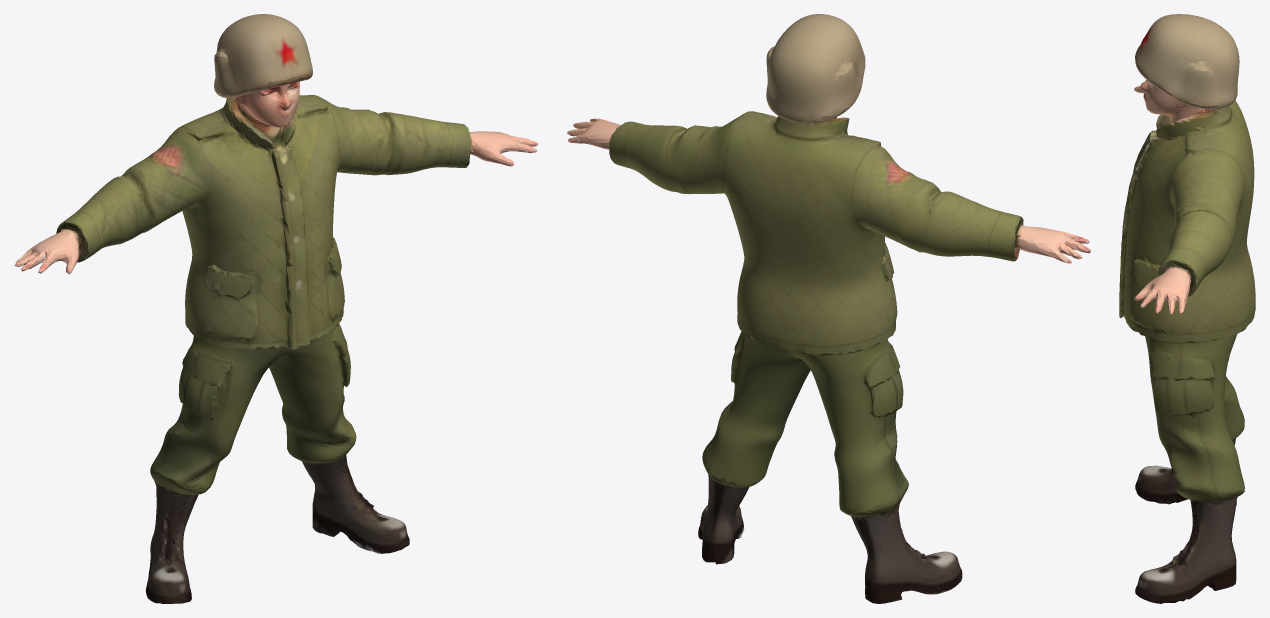
Rendered from vasiliy_tpose.glb.
3 views of the same model, side by side, from view 1: azimuth 30°, elevation 25°; view 2: azimuth 150°, elevation 25°; view 3: azimuth 270°, elevation 25° (orthographic). The views are drawn at different scales.
Parts seen in each view (by area): view 1: model; view 2: model; view 3: model.
Boxes of the visible parts, left/top/right/bottom form: model: left=14, top=14, right=538, bottom=603; model: left=567, top=14, right=1090, bottom=603; model: left=1119, top=14, right=1255, bottom=603.
Bounding box in the file's own units: 1.89 × 1.9 × 0.4465.
1 material, 1 textured.
